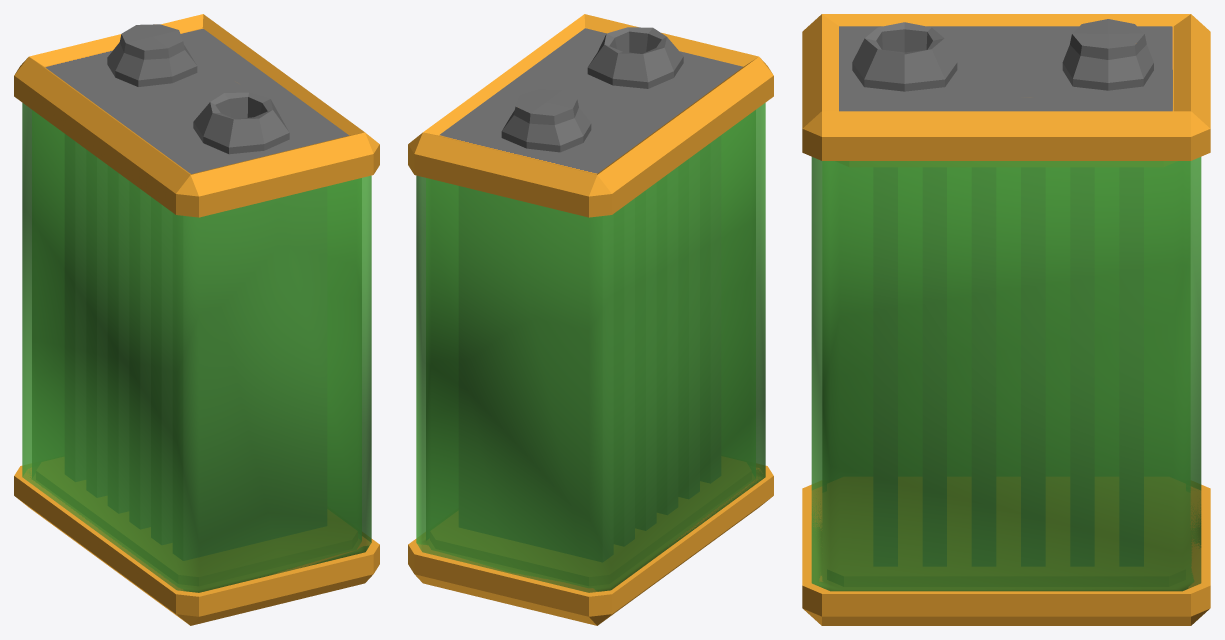
File: battery 1.fbx
The picture shows the model from 3 angles, left to right: view 1: azimuth 30°, elevation 25°; view 2: azimuth 150°, elevation 25°; view 3: azimuth 270°, elevation 25°; orthographic projection. The views are drawn at different scales.
Parts seen in each view (by area): view 1: Cube.002, Cube.001; view 2: Cube.002, Cube.001; view 3: Cube.002, Cube.001.
Boxes of the visible parts, box(x1,y1,x2,y2) form: Cube.002: box(22, 103, 371, 592); Cube.001: box(14, 14, 379, 625); Cube.002: box(416, 103, 765, 592); Cube.001: box(408, 14, 773, 625); Cube.002: box(811, 157, 1201, 591); Cube.001: box(802, 14, 1210, 625).
Bounding box in the file's own units: 94.63 × 211 × 144.
Materials: 3 (1 with a texture image).
